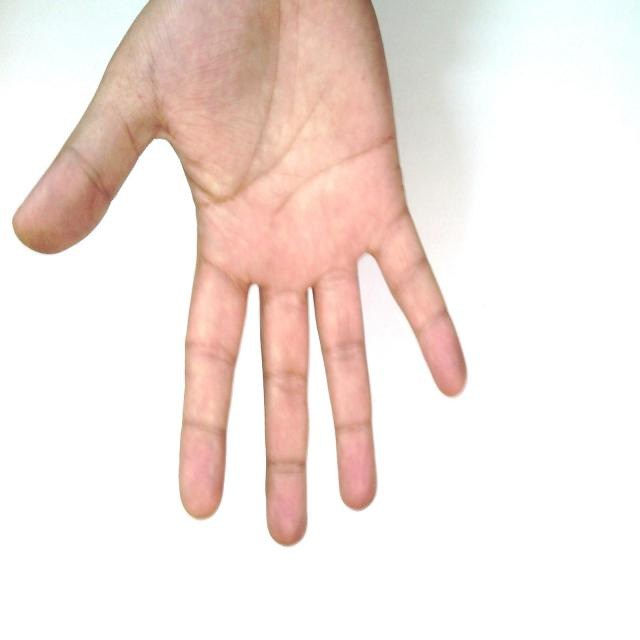others: (3, 0, 544, 551)
